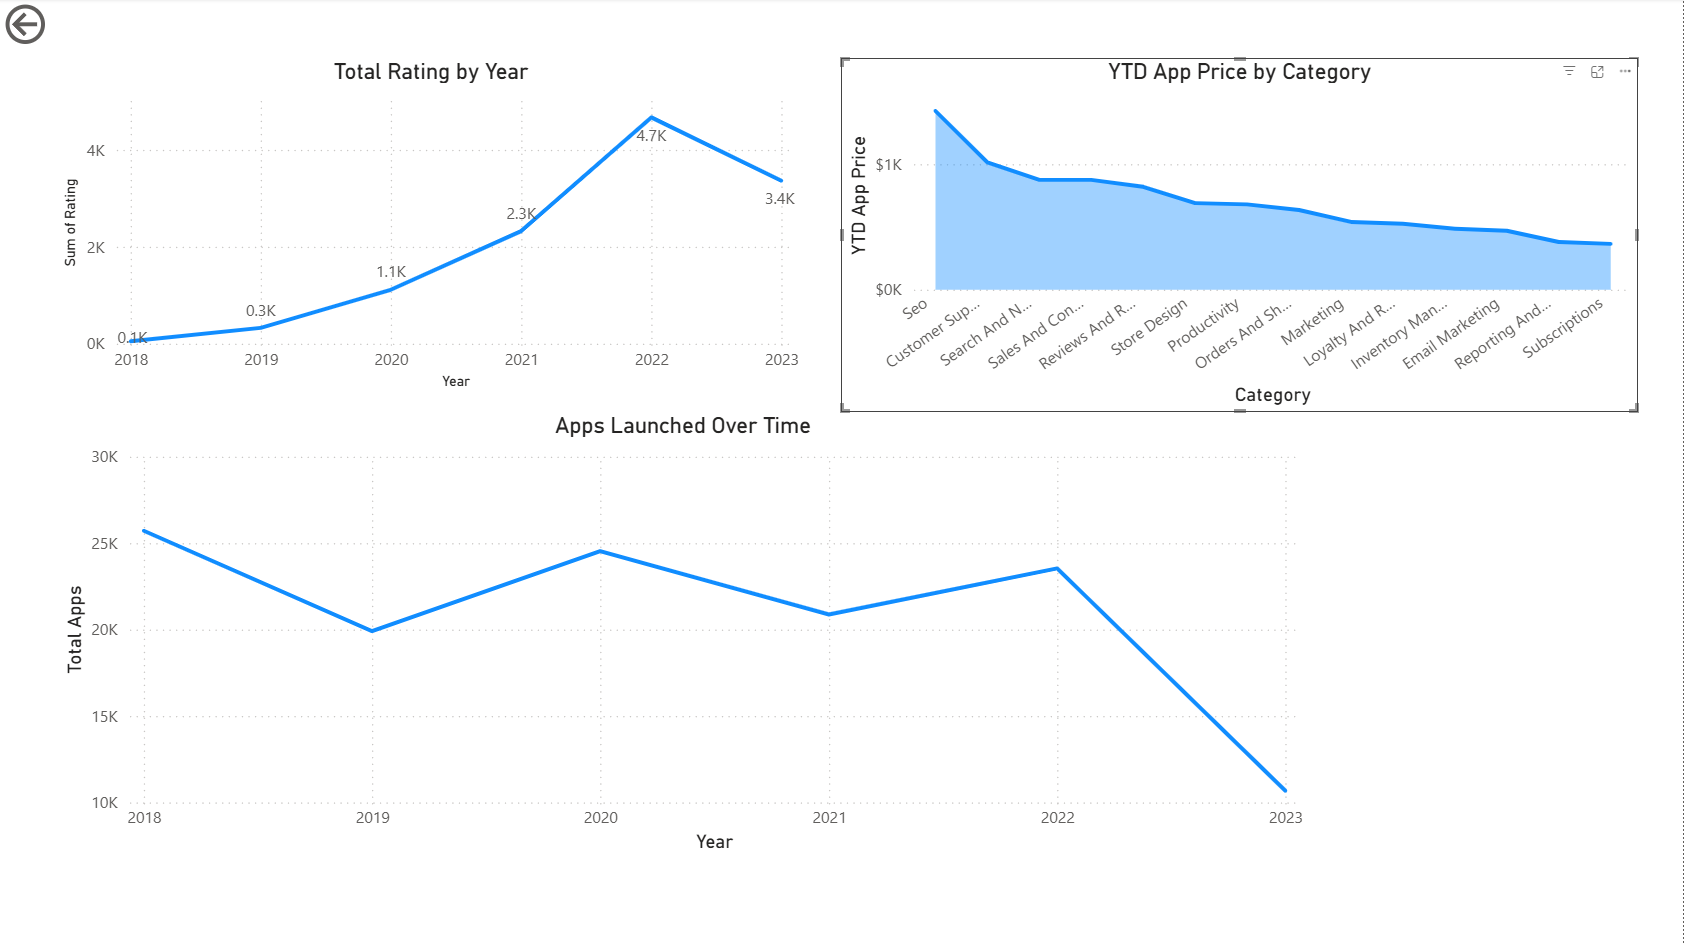

This screenshot's page, from the dashboard's own definition file:
{"tool":"powerbi","page":{"name":"Trend Analysis","canvas":[1280,720],"ordinal":1},"visuals":[{"type":"actionButton","box":[0,0,99.9,40],"z":0},{"type":"lineChart","title":"Total Rating by Year","fields":{"Y":["Sum(reviews.Rating)"],"Category":["Dim_Date.Date.Variation.Date Hierarchy.Year","Dim_Date.Date.Variation.Date Hierarchy.Quarter","Dim_Date.Date.Variation.Date Hierarchy.Month","Dim_Date.Date.Variation.Date Hierarchy.Day"]},"box":[44.1,45.6,568.7,256.2],"z":1000},{"type":"lineChart","title":"Apps Launched Over Time","fields":{"Category":["apps.Launch Date.Variation.Date Hierarchy.Year","apps.Launch Date.Variation.Date Hierarchy.Quarter","apps.Launch Date.Variation.Date Hierarchy.Month","apps.Launch Date.Variation.Date Hierarchy.Day"],"Y":["apps.Total Apps"]},"box":[44.1,314.8,951.9,339.9],"z":2000},{"type":"areaChart","fields":{"Category":["apps.Category"],"Y":["apps.YTD App Price"]},"box":[640.2,45.6,606,269.1],"z":3000}]}

Visuals, with their boxes in screenshot pixels (x1, y1, x2, y2), scaled from the page's 1280x720 canvas onto the 1684x945 screenshot:
actionButton: (left=0, top=0, right=131, bottom=52)
"Total Rating by Year" lineChart: (left=58, top=60, right=806, bottom=396)
"Apps Launched Over Time" lineChart: (left=58, top=413, right=1310, bottom=859)
areaChart - apps.Category x apps.YTD App Price: (left=842, top=60, right=1640, bottom=413)
